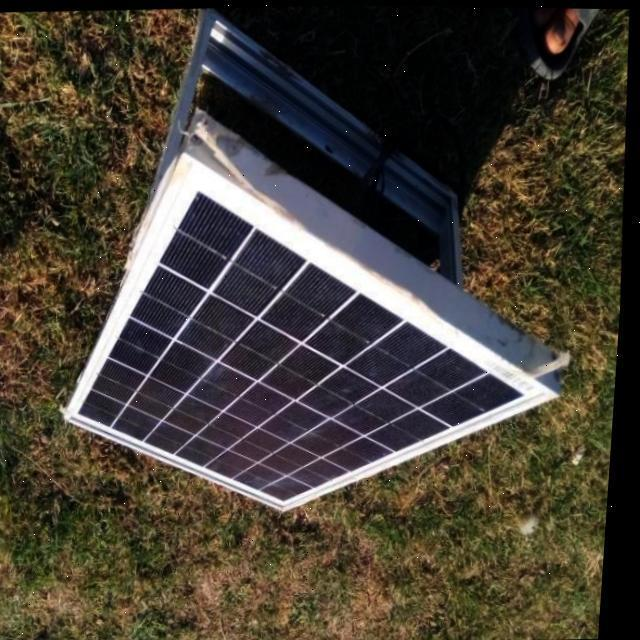Normal Solar Panel: (55, 138, 579, 520)
